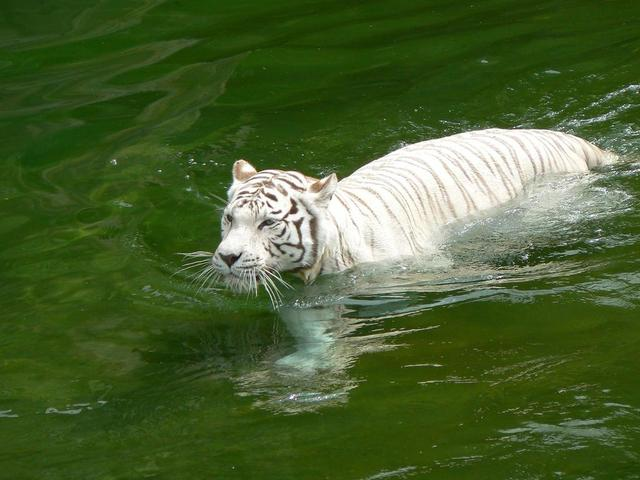tiger: (164, 93, 614, 351)
